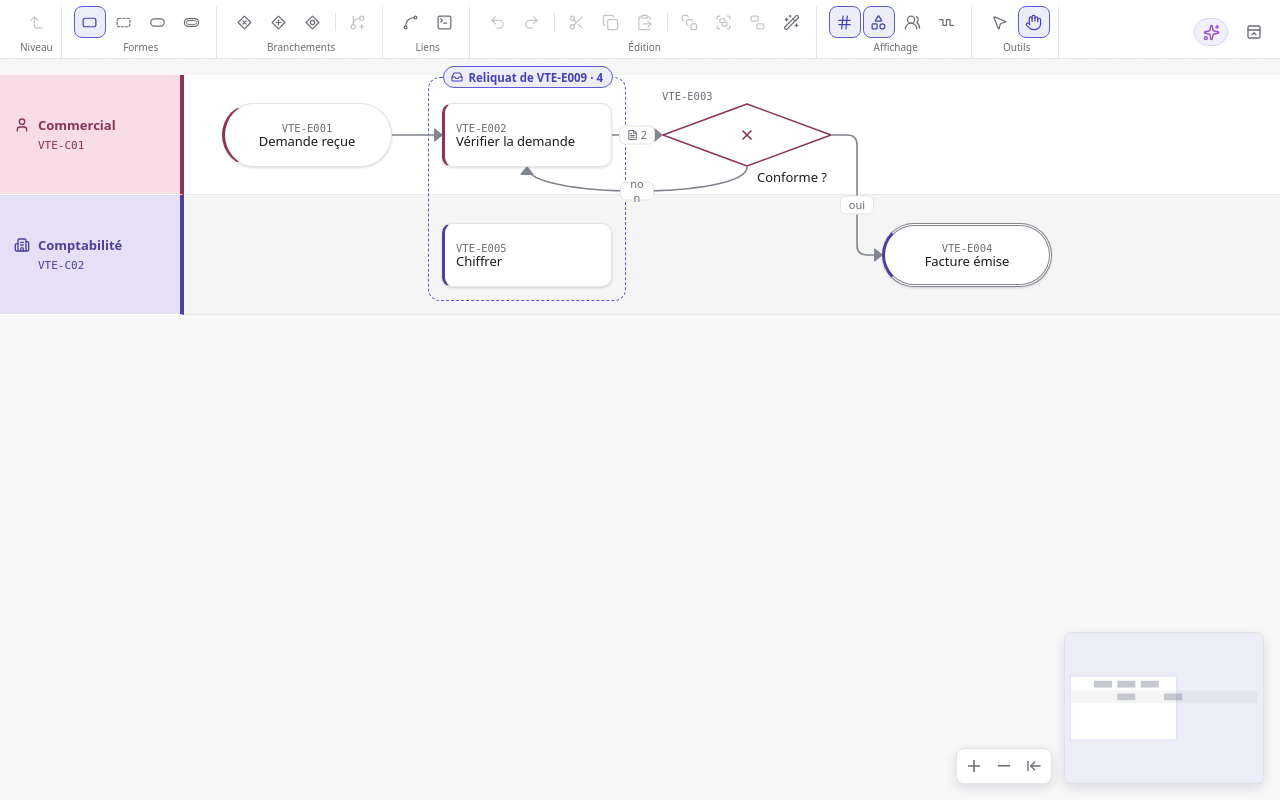
Test: the panel of the remainder (B-2.9-24 to B-2.9-28) › is not modal: Escape closes it, the other shortcuts still work on the canvas (B-2.5-04)
This screenshot has width=1280, height=800.
Click the button with test id "dissolution-label": [528, 77] box [444,66,613,88]
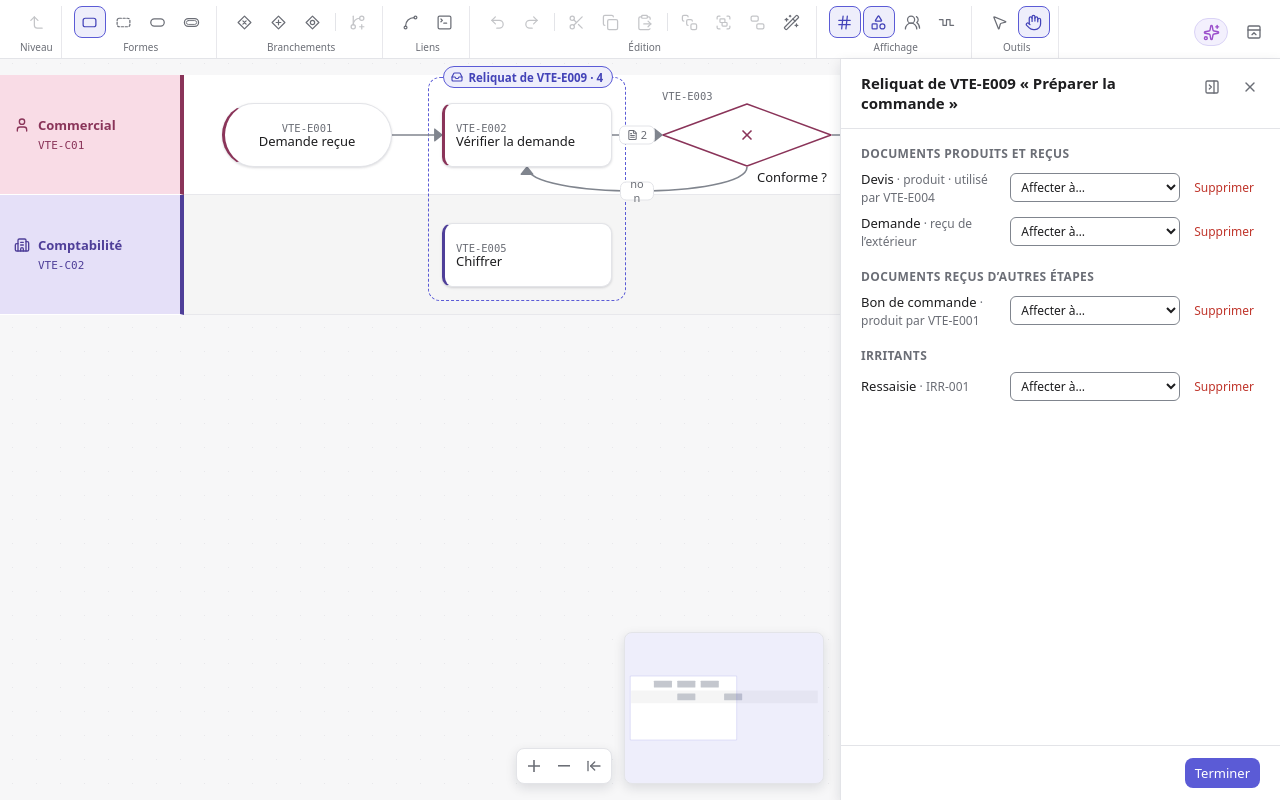
Type keys "v"
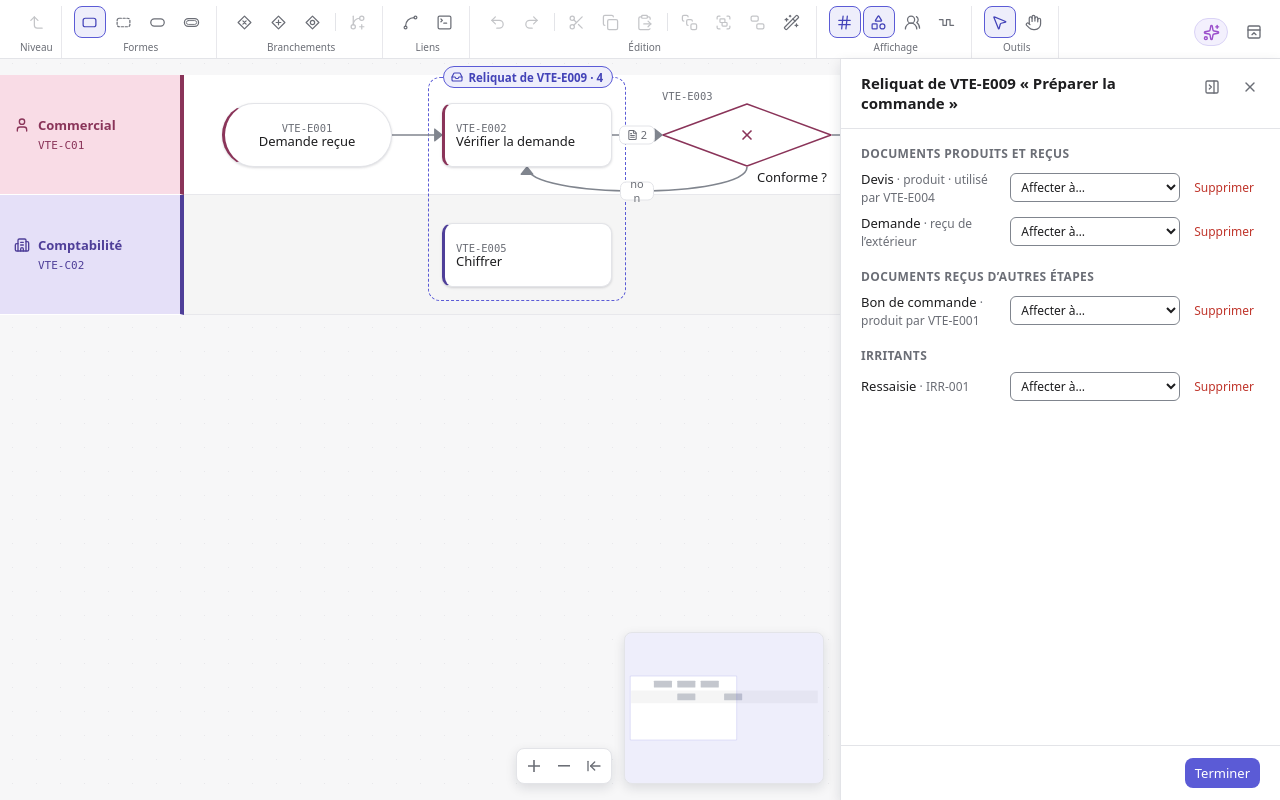
Press Escape
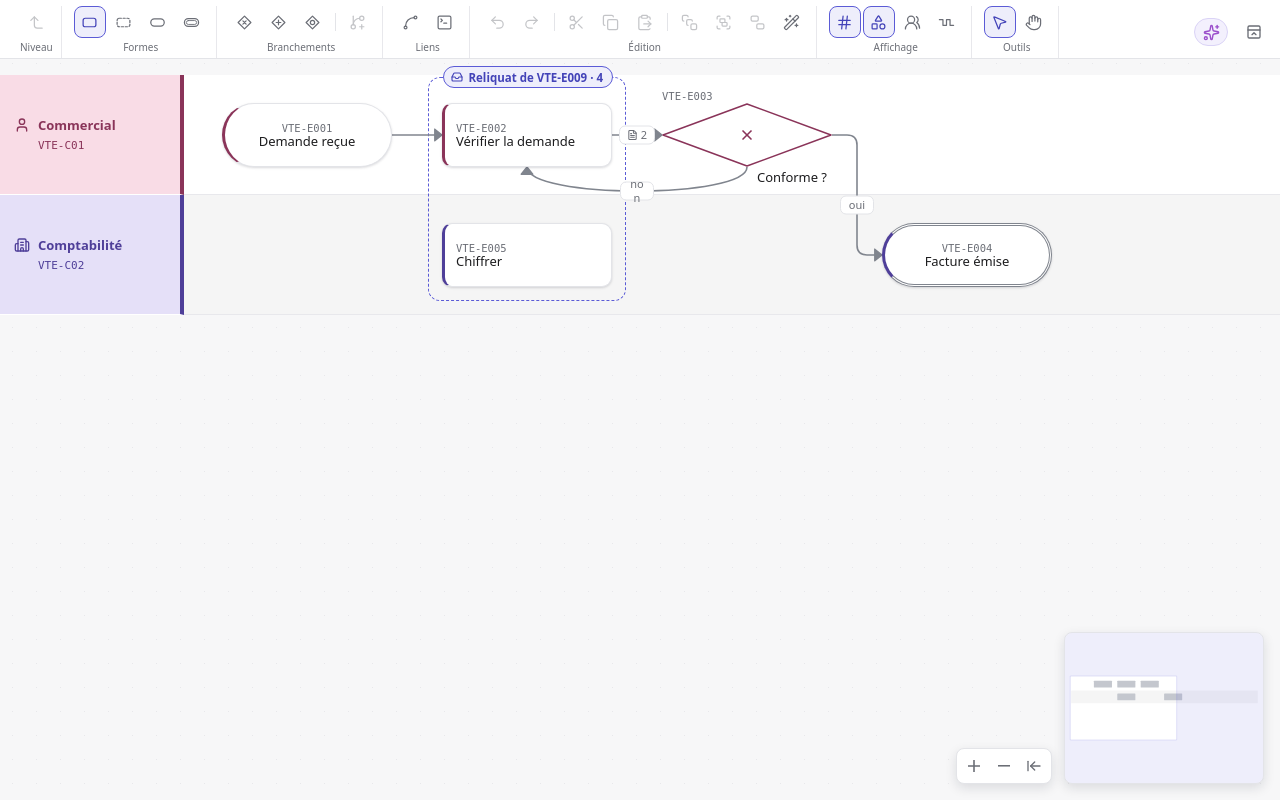
Expected: the element with test id "remainder-panel" is gone
